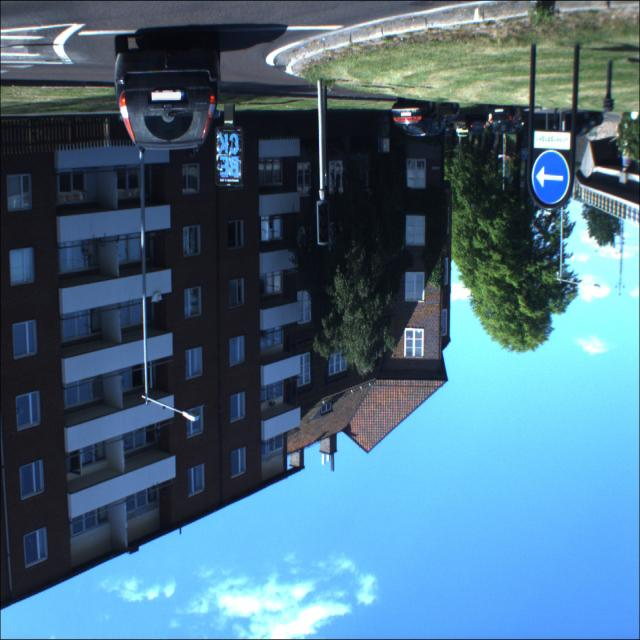Turn Left: (532, 152, 569, 207)
